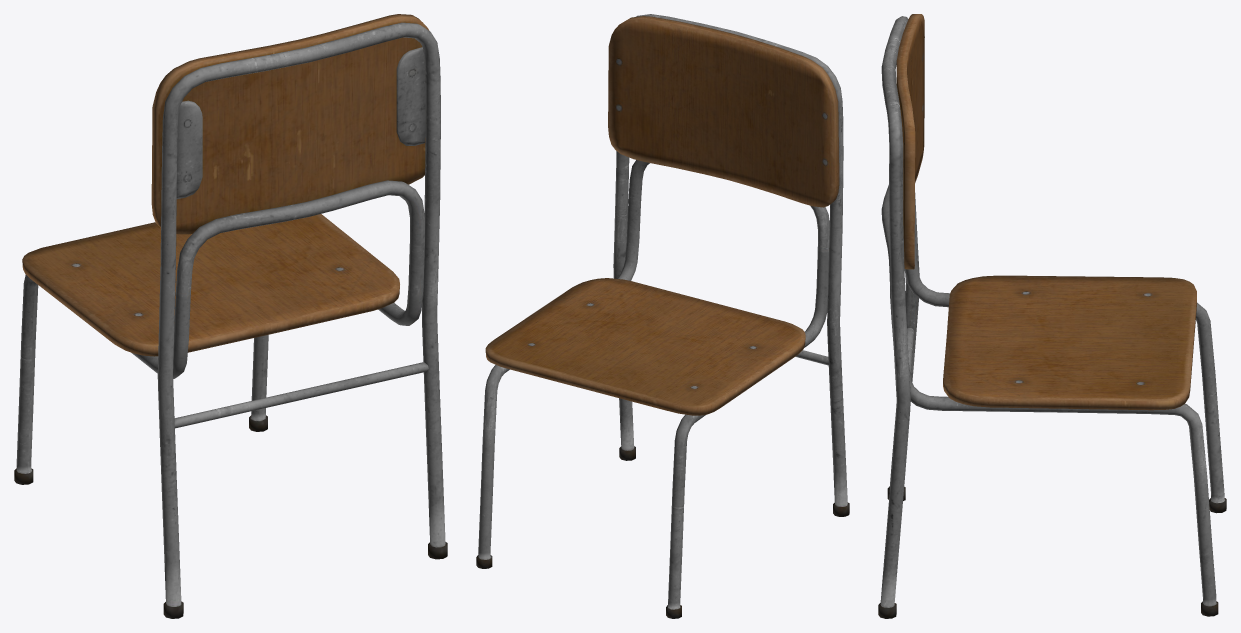
The model's file is Chair.fbx.
3 views of the same model, side by side, from view 1: azimuth 30°, elevation 25°; view 2: azimuth 150°, elevation 25°; view 3: azimuth 270°, elevation 25° (orthographic). The views are drawn at different scales.
Parts seen in each view (by area): view 1: Chair; view 2: Chair; view 3: Chair.
Boxes of the visible parts, x1,y1,x2,y2 form: Chair: [14, 14, 447, 618]; Chair: [476, 14, 849, 618]; Chair: [878, 14, 1226, 618].
Size of the model in its own units: 47.3 by 85.74 by 54.45.
